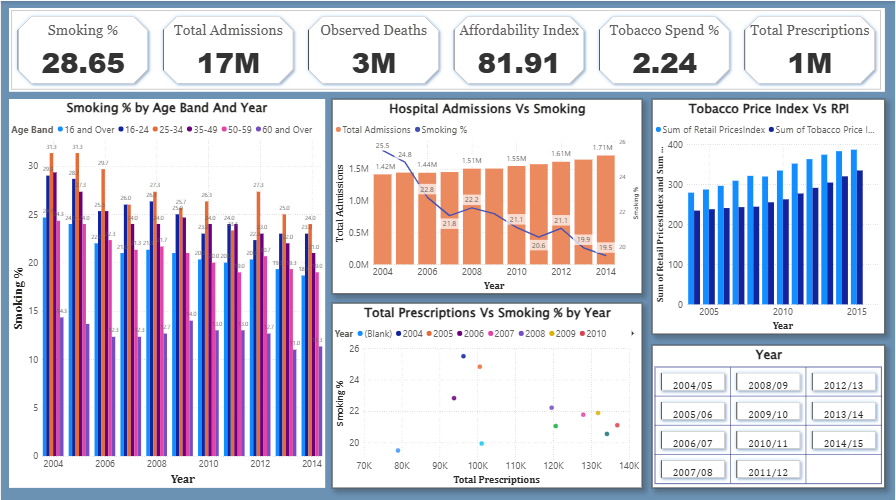

This screenshot's page, from the dashboard's own definition file:
{"tool":"powerbi","page":{"name":"Page 1","canvas":[1929,1080],"ordinal":0},"visuals":[{"type":"cardVisual","fields":{"Data":["smokers.Smoking %","admissions_table.Total Admissions","fatalities_table.Observed Deaths","metrics.Affordability Index","metrics.Tobacco Spend %","prescriptions.Total Prescriptions"]},"box":[17.3,15.1,1892.2,181.4],"z":0},{"type":"clusteredColumnChart","title":"Smoking % by  Age Band And Year","fields":{"Category":["DimYear.Year"],"Series":["smokers.Age Band"],"Y":["smokers.Smoking %"]},"box":[17.3,211.7,682.6,840.2],"z":3000},{"type":"lineClusteredColumnComboChart","title":"Hospital Admissions Vs Smoking","fields":{"Y":["admissions_table.Total Admissions"],"Y2":["smokers.Smoking %"],"Category":["DimYear.Year"]},"box":[715,211.7,669.6,421.2],"z":4000},{"type":"scatterChart","title":"Total Prescriptions Vs Smoking % by Year","fields":{"X":["prescriptions.Total Prescriptions"],"Y":["smokers.Smoking %"],"Series":["DimYear.Year"]},"box":[715,652.3,669.6,399.6],"z":5000},{"type":"clusteredColumnChart","title":"Tobacco Price Index Vs RPI","fields":{"Y":["Sum(metrics.Retail PricesIndex)","Sum(metrics.Tobacco Price Index Relative to Retail Price Index)"],"Category":["DimYear.Year"]},"box":[1406.2,211.7,503.3,507.6],"z":6000},{"type":"advancedSlicerVisual","fields":{"Values":["admissions_table.Year"]},"box":[1406.2,743,503.3,308.9],"z":7000}]}

Visuals, with their boxes in screenshot pixels (x1, y1, x2, y2), scaled from the page's 1929x1080 canvas onto the 896x500 screenshot:
cardVisual - smokers.Smoking % x admissions_table.Total Admissions: [left=8, top=7, right=887, bottom=91]
"Smoking % by  Age Band And Year" clusteredColumnChart: [left=8, top=98, right=325, bottom=487]
"Hospital Admissions Vs Smoking" lineClusteredColumnComboChart: [left=332, top=98, right=643, bottom=293]
"Total Prescriptions Vs Smoking % by Year" scatterChart: [left=332, top=302, right=643, bottom=487]
"Tobacco Price Index Vs RPI" clusteredColumnChart: [left=653, top=98, right=887, bottom=333]
advancedSlicerVisual - admissions_table.Year: [left=653, top=344, right=887, bottom=487]
